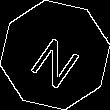N_NE: (24, 23, 86, 87)
